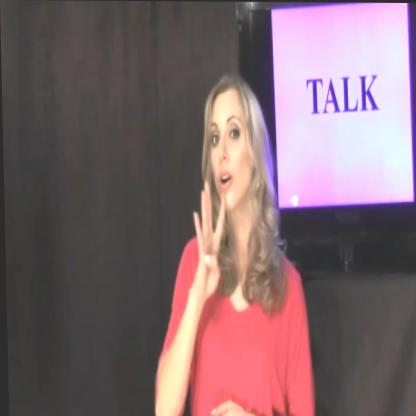Talk: (187, 71, 279, 306)
